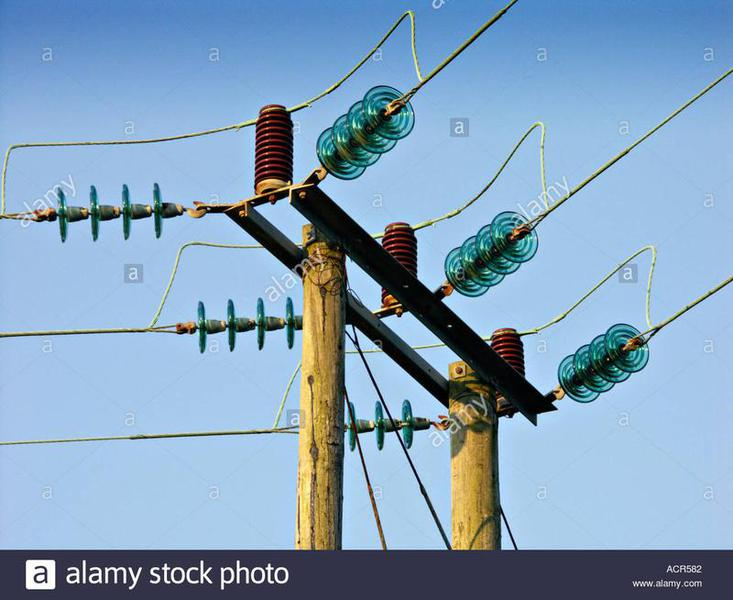isolator: (316, 84, 416, 182), (443, 209, 539, 298), (556, 322, 651, 405), (54, 181, 164, 244), (195, 297, 297, 354), (346, 398, 414, 451)
